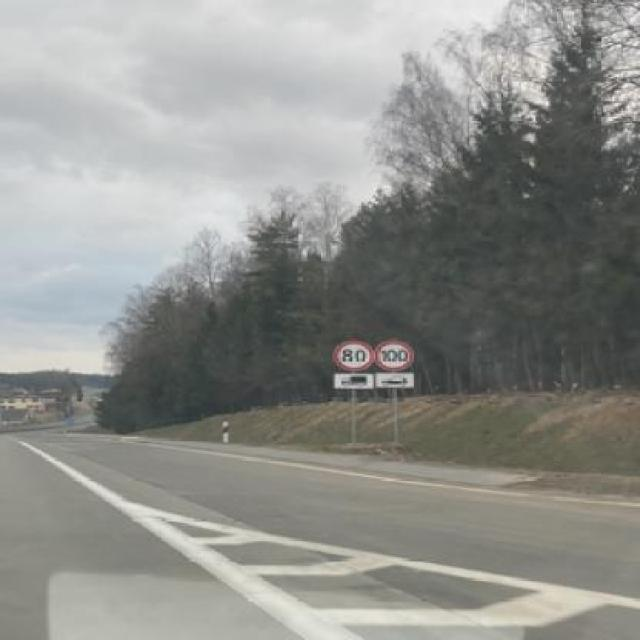forb_speed_over_100: (376, 341, 416, 372)
forb_speed_over_80: (331, 338, 375, 372)
